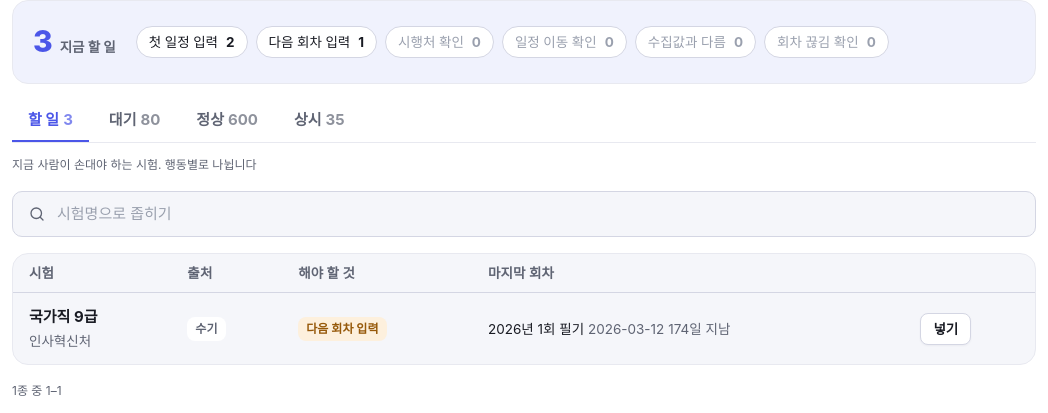
Scenario: AdminOverview — 할 일 › 다시 불러오는 동안 표는 남고 aria-busy 가 켜진다
Check: the text "국가직 9급" is shown, box 29,307 -> 98,326
Click the tab "정상600".
click(227, 121)  # box 180,100 -> 274,142
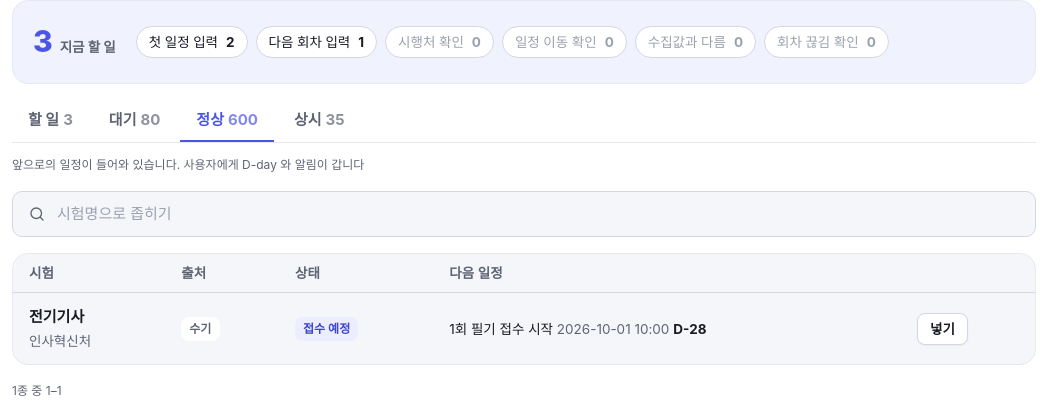
Check: the element that starts with "다음 일정" is shown, box 12,253 -> 1036,365
Check: the text "전기기사" is shown, box 29,307 -> 84,326
